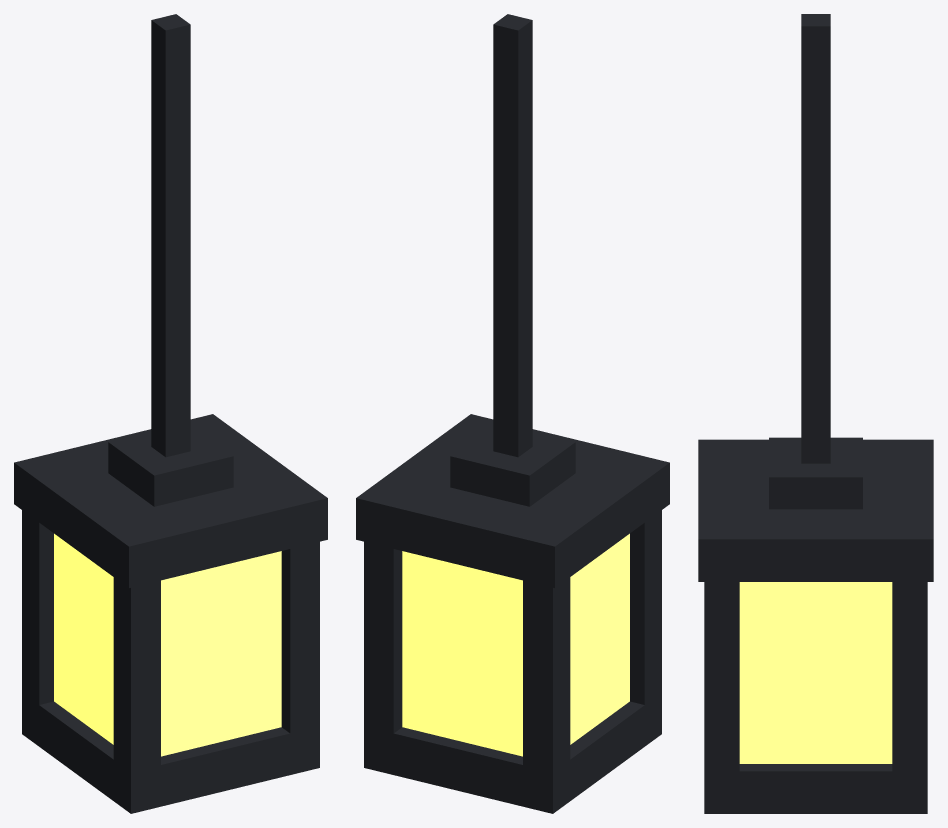
File: xma-hanging-lantern.glb
3 renders of one model, left to right at view 1: azimuth 30°, elevation 25°; view 2: azimuth 150°, elevation 25°; view 3: azimuth 270°, elevation 25°, orthographic. The views are drawn at different scales.
Visible parts, largest first — view 1: box-prop; view 2: box-prop; view 3: box-prop.
Part boxes in pixels (<box>): box-prop: <box>14,14,327,813</box>; box-prop: <box>356,14,669,813</box>; box-prop: <box>698,14,933,813</box>.
Bounding box in the file's own units: 0.4 × 1.4 × 0.4.
